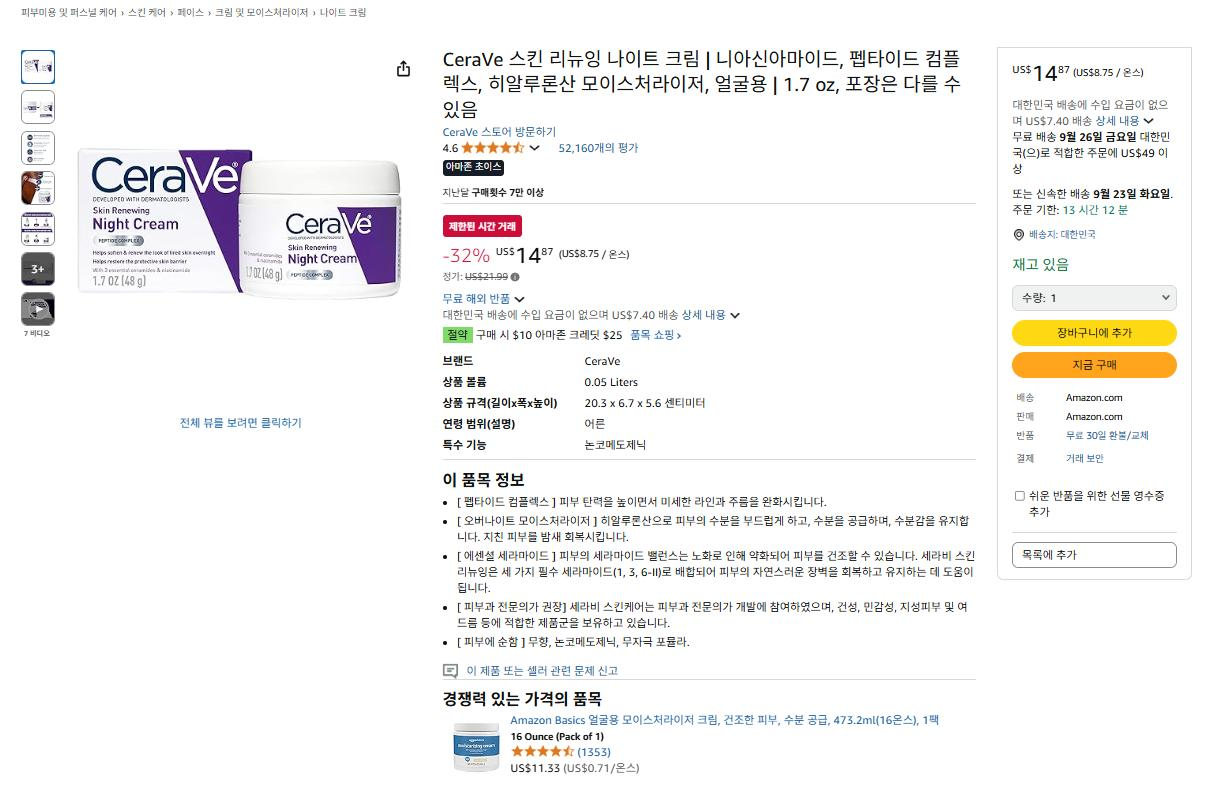checkbox: (1014, 488, 1173, 526)
